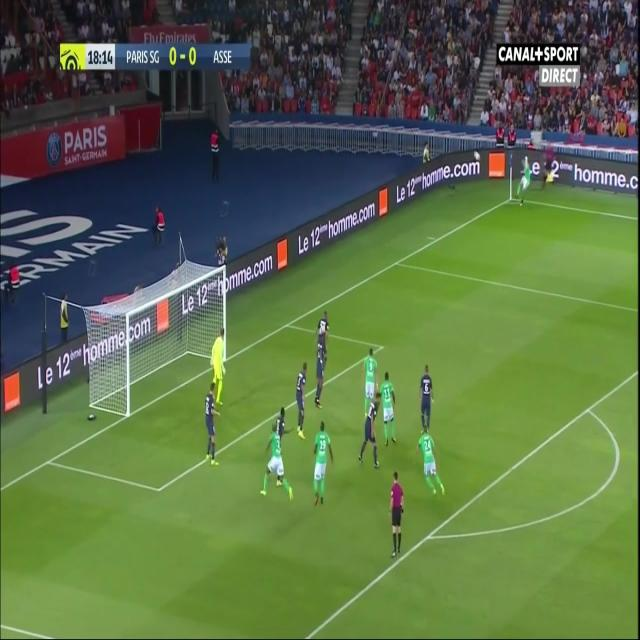Ball: (473, 148, 480, 166)
Goalkeeper: (209, 322, 227, 406)
Player: (257, 428, 294, 500), (415, 428, 449, 498), (311, 421, 336, 512), (358, 390, 381, 470), (379, 369, 398, 450), (204, 382, 221, 471), (360, 347, 380, 421), (310, 333, 327, 410), (419, 364, 436, 436), (296, 358, 310, 441), (514, 160, 533, 209), (271, 406, 294, 438)
Referee: (388, 471, 405, 564)
